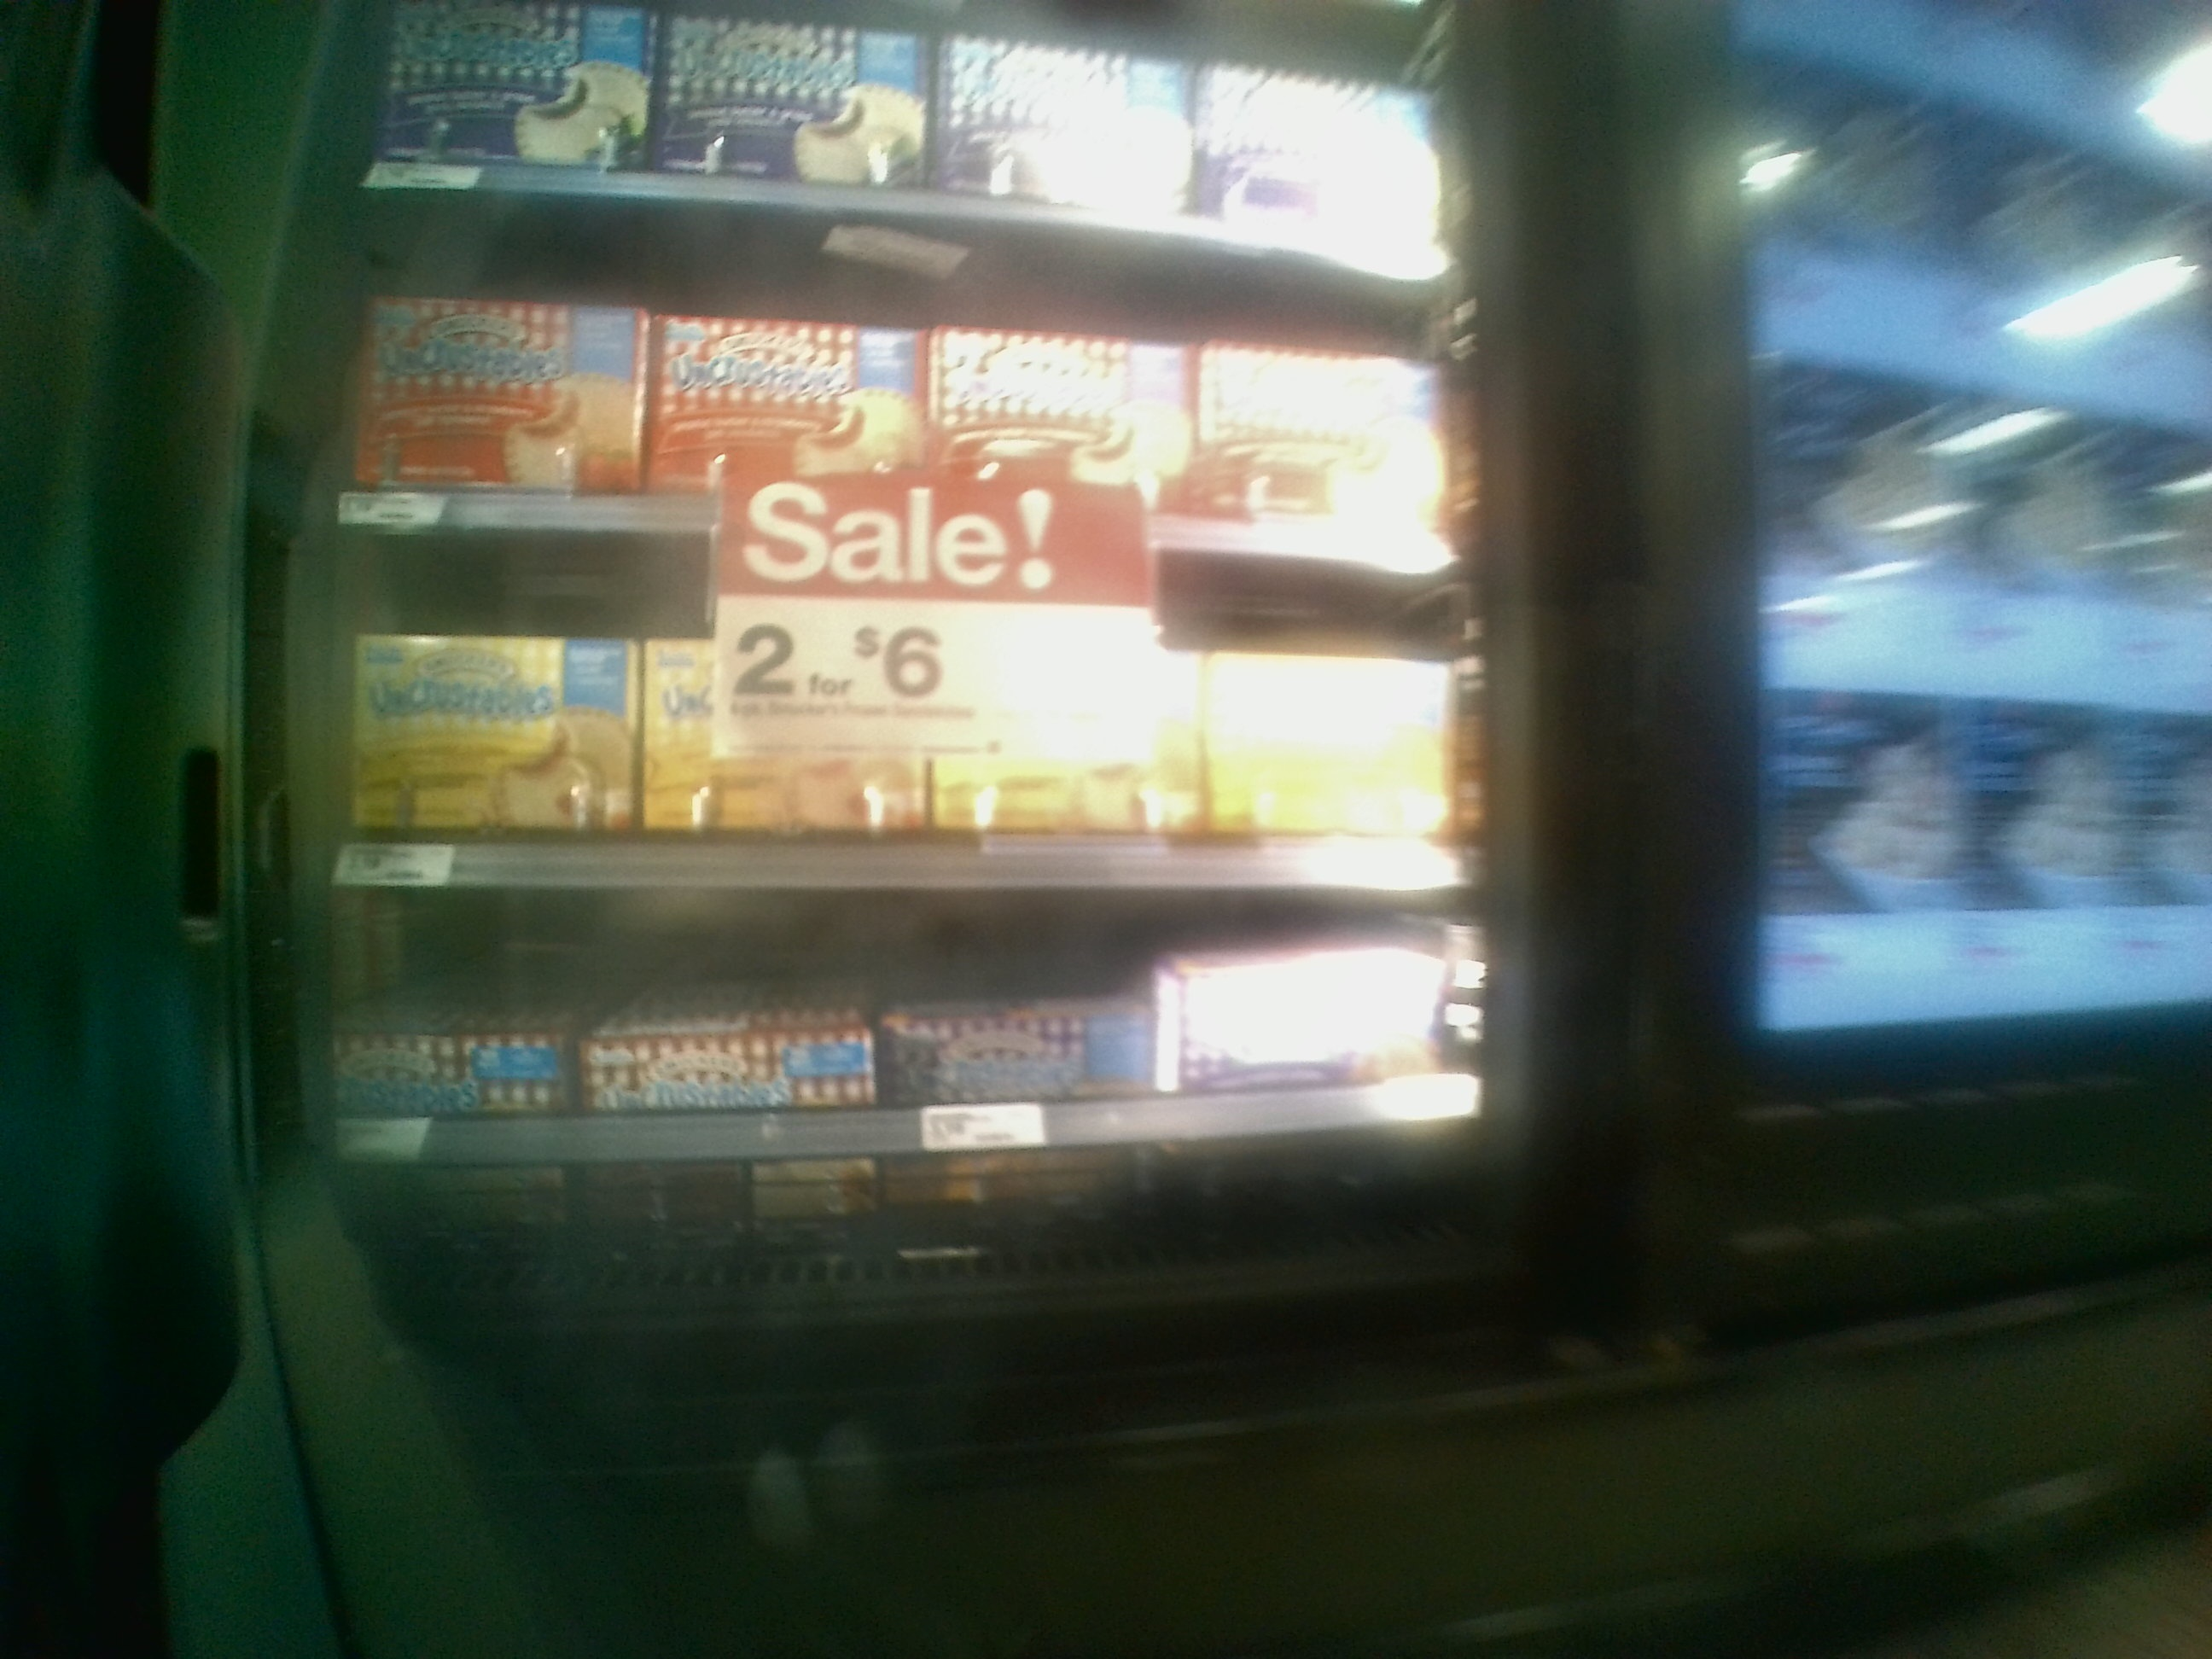shelf: (312, 903, 1493, 1283), (354, 188, 1456, 572), (314, 538, 1479, 894)
